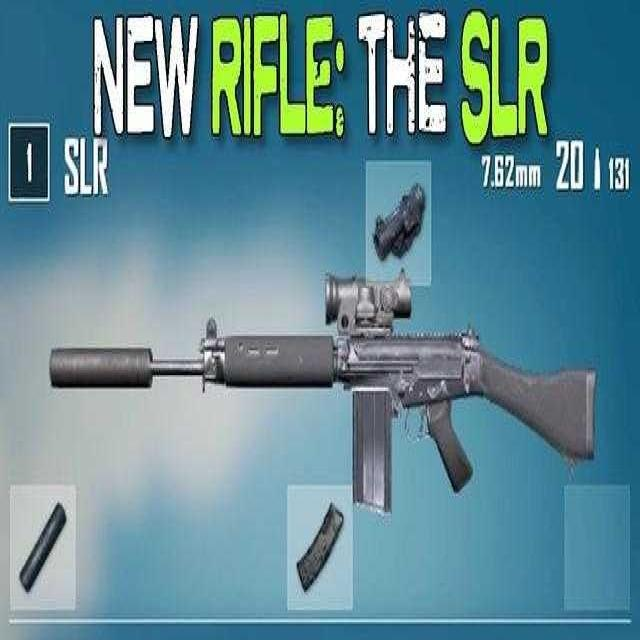weapon: (36, 297, 620, 498)
